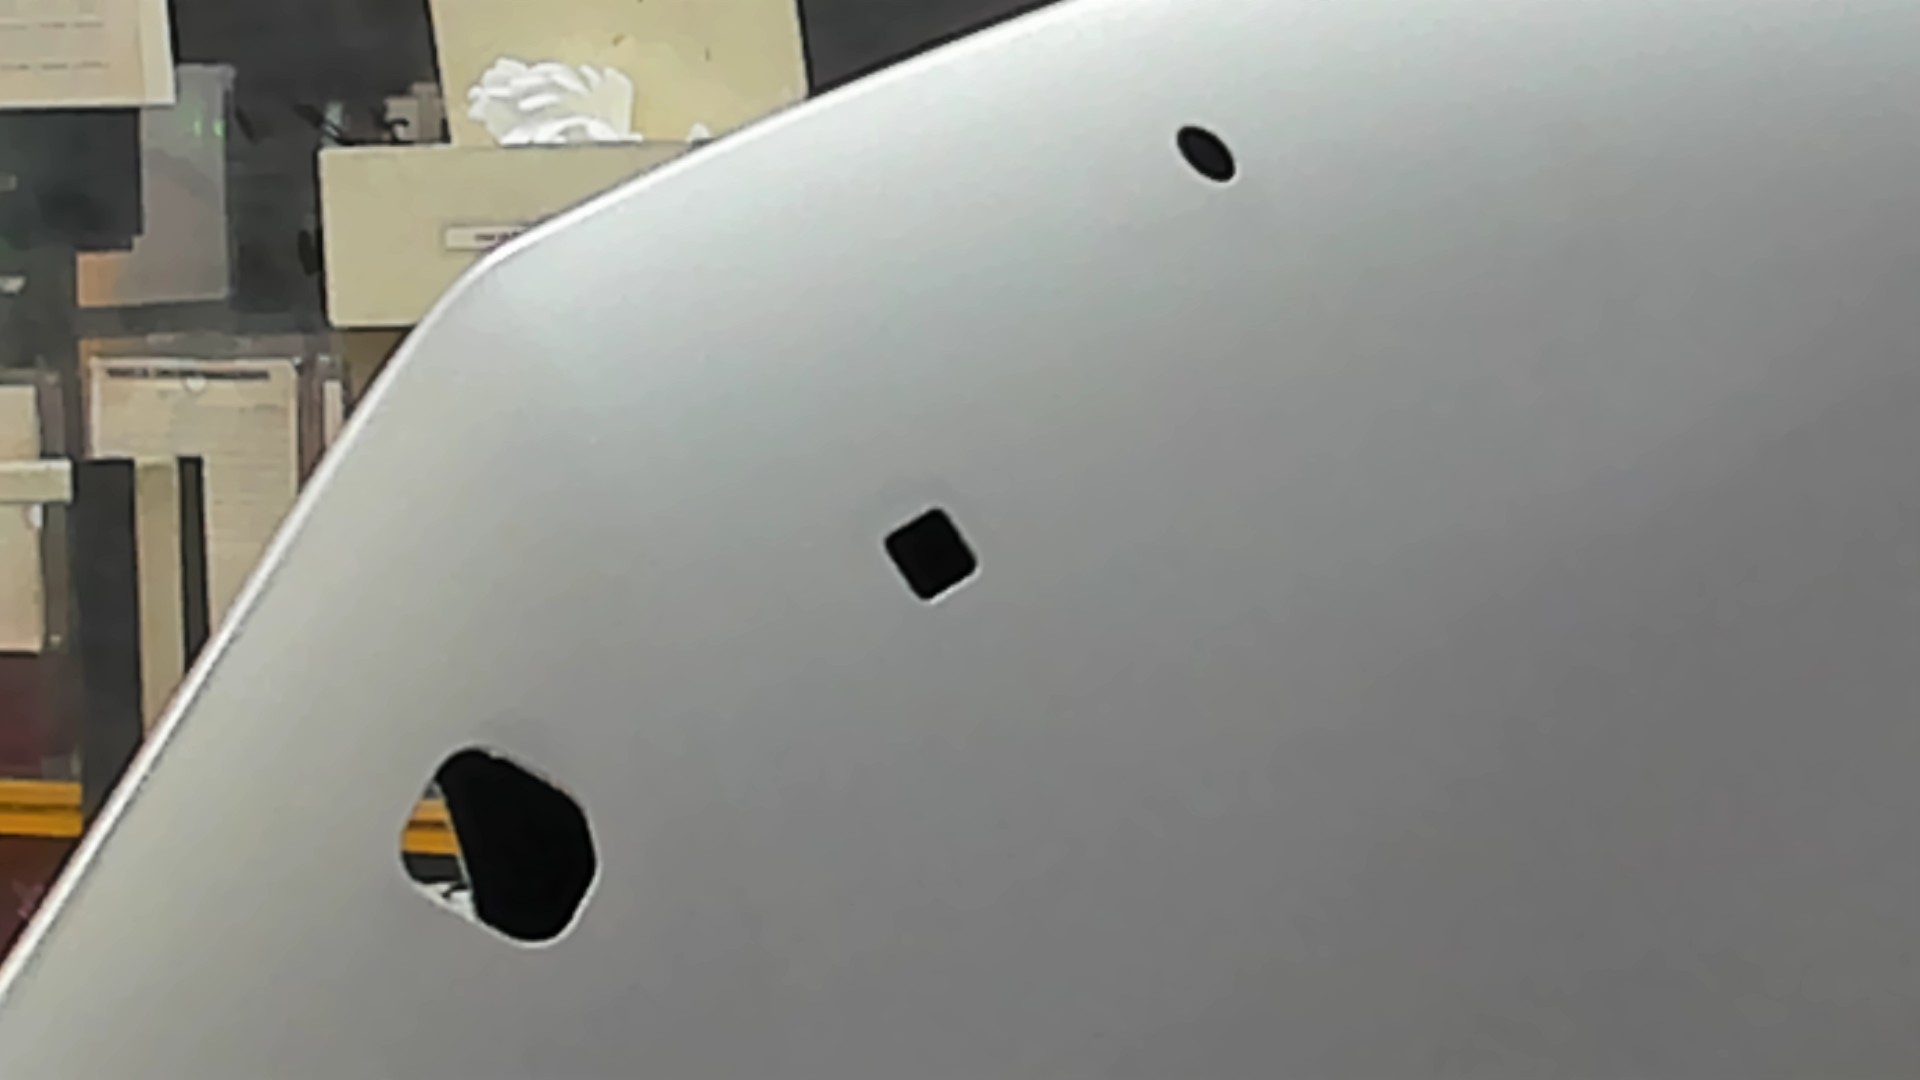Agujero: (881, 506, 981, 604), (1174, 123, 1238, 185)
Agujerote: (396, 745, 599, 947)
